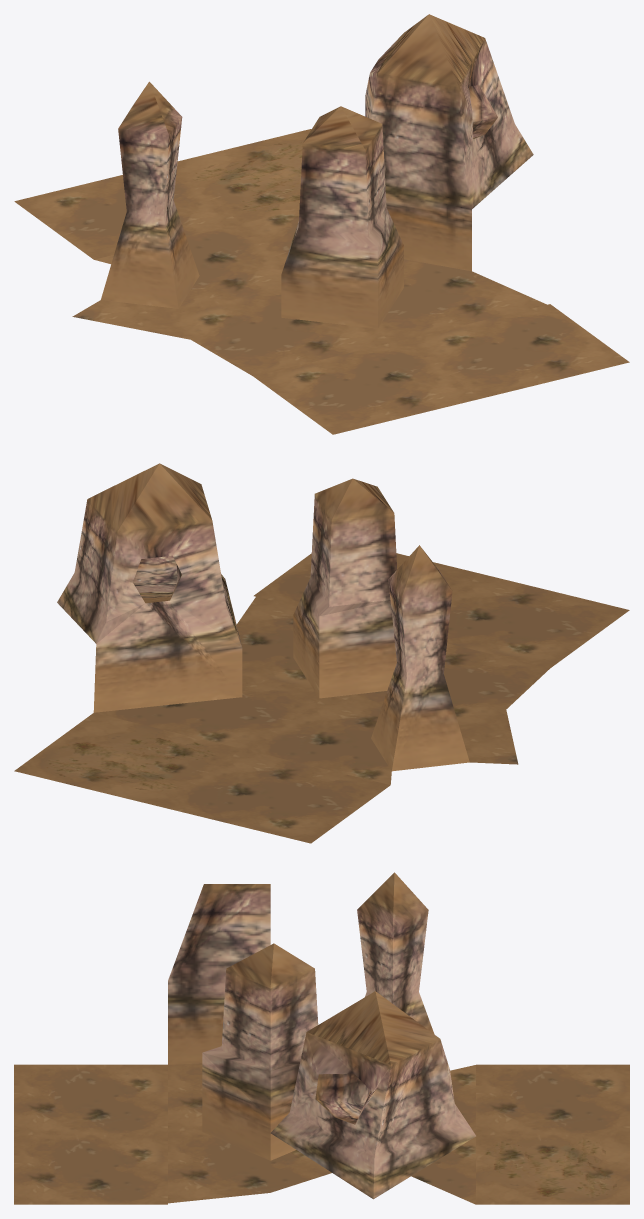
3 views of the same model, one above another, from view 1: azimuth 30°, elevation 25°; view 2: azimuth 150°, elevation 25°; view 3: azimuth 270°, elevation 25° (orthographic). The views are drawn at different scales.
Parts seen in each view (by area): view 1: Object01; view 2: Object01; view 3: Object01.
Boxes of the visible parts, x1=… form: Object01: x1=14, y1=14, x2=629, y2=434; Object01: x1=14, y1=463, x2=629, y2=843; Object01: x1=14, y1=872, x2=629, y2=1204.
Size of the model in its own units: 7144 by 3175 by 8553.
3 materials, 3 textured.
